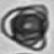correct: (2, 3, 50, 51)
